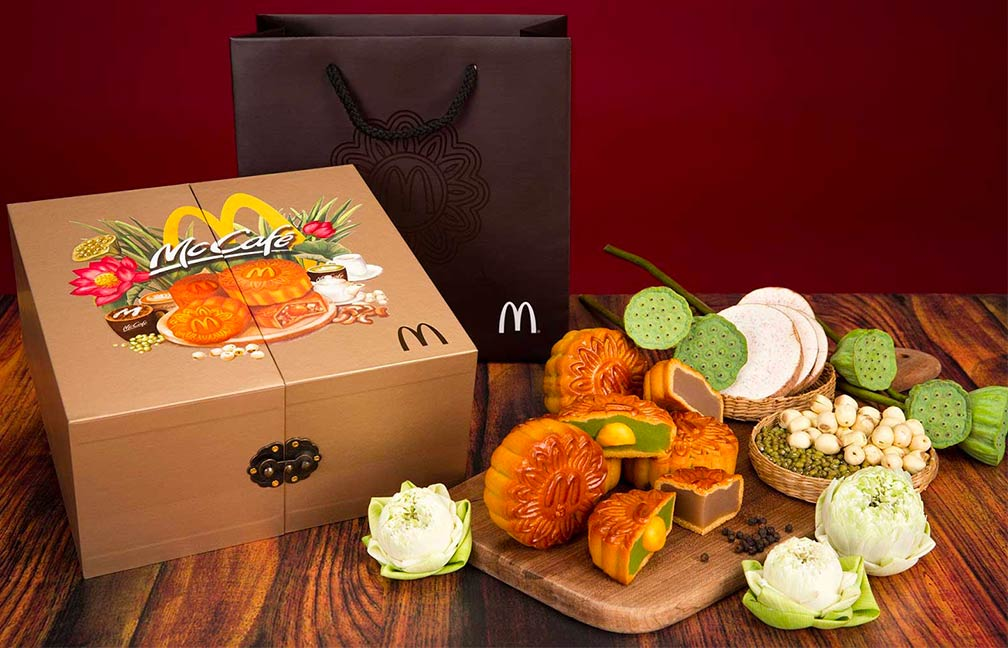mcdonalds: (385, 318, 454, 357), (491, 290, 540, 334), (387, 314, 448, 347), (387, 316, 448, 349), (385, 318, 446, 351)
